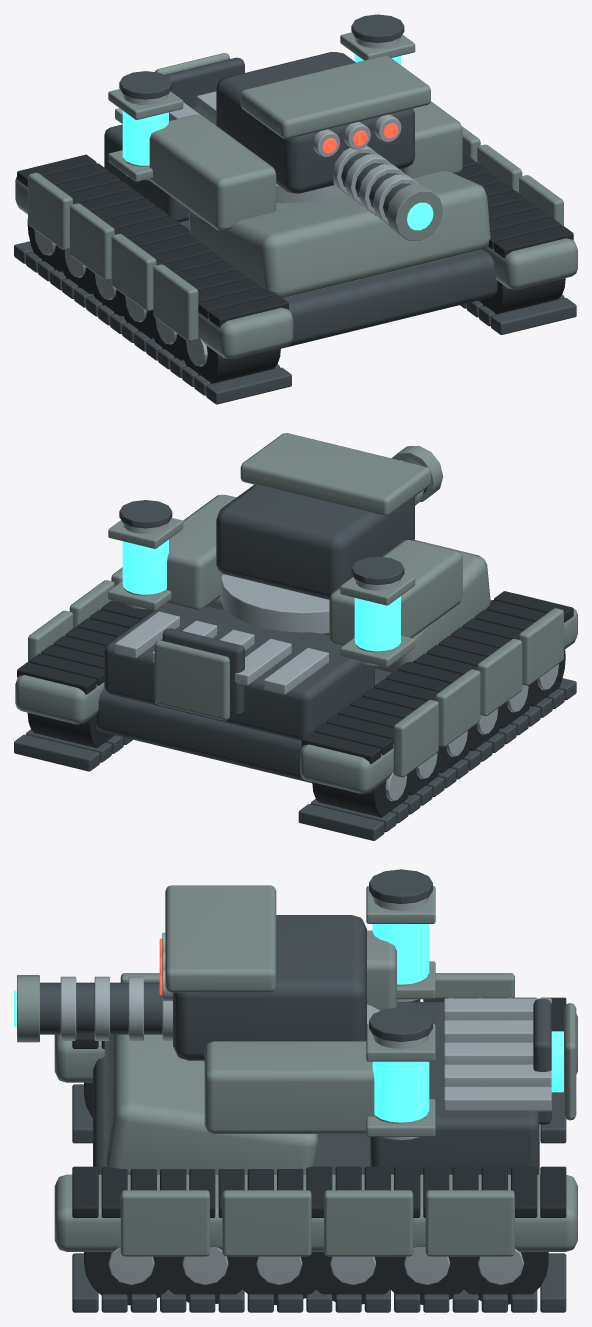
The model's file is HF_MANTIS6.fbx.
3 renders of one model, top to bottom at view 1: azimuth 30°, elevation 25°; view 2: azimuth 150°, elevation 25°; view 3: azimuth 270°, elevation 25°, orthographic. The views are drawn at different scales.
Visible parts, largest first — view 1: Armored glacis, Lower frame, Turret shoulder, Brow armor, Turret, Bogie guard -1, Bogie guard 1, Turret shoulder.001, ArmorL0, ArmorL1, ArmorL2, ArmorL3 (+47 smaller); view 2: Turret, Aft engine deck, Brow armor, Lower frame, Turret shoulder, CoreHatch, Turret shoulder.001, Turret bearing, Bogie guard -1, Armored glacis, Bogie guard 1, ArmorL3 (+50 smaller); view 3: Turret, Armored glacis, Turret shoulder.001, Brow armor, Aft engine deck, Bogie guard 1, ArmorR1, ArmorR3, ArmorR2, ArmorR0, Arc barrel, Coolant glass.001 (+57 smaller).
Part boxes in pixels (bbox=[...]): Armored glacis: bbox=[188, 171, 490, 298]; Lower frame: bbox=[179, 220, 497, 348]; Turret shoulder: bbox=[149, 114, 276, 230]; Brow armor: bbox=[240, 55, 430, 138]; Turret: bbox=[216, 52, 414, 193]; Bogie guard -1: bbox=[15, 176, 293, 358]; Bogie guard 1: bbox=[483, 238, 577, 289]; Turret shoulder.001: bbox=[399, 101, 462, 178]; ArmorL0: bbox=[153, 264, 198, 341]; ArmorL1: bbox=[111, 234, 156, 311]; ArmorL2: bbox=[69, 203, 114, 280]; ArmorL3: bbox=[28, 172, 72, 250]; Turret: bbox=[216, 484, 414, 599]; Aft engine deck: bbox=[104, 602, 374, 740]; Brow armor: bbox=[240, 433, 430, 516]; Lower frame: bbox=[95, 668, 391, 782]; Turret shoulder: bbox=[329, 540, 462, 645]; CoreHatch: bbox=[154, 640, 229, 720]; Turret shoulder.001: bbox=[166, 494, 236, 609]; Turret bearing: bbox=[220, 574, 329, 633]; Bogie guard -1: bbox=[300, 594, 577, 793]; Armored glacis: bbox=[208, 540, 490, 672]; Bogie guard 1: bbox=[15, 675, 104, 724]; ArmorL3: bbox=[393, 700, 438, 777]; Turret: bbox=[173, 915, 366, 1060]; Armored glacis: bbox=[104, 981, 318, 1174]; Turret shoulder.001: bbox=[204, 1041, 375, 1133]; Brow armor: bbox=[165, 885, 276, 992]; Aft engine deck: bbox=[370, 1002, 539, 1174]; Bogie guard 1: bbox=[54, 1174, 577, 1251]; ArmorR1: bbox=[222, 1190, 311, 1256]; ArmorR3: bbox=[425, 1190, 514, 1256]; ArmorR2: bbox=[324, 1190, 413, 1256]; ArmorR0: bbox=[120, 1190, 209, 1256]; Arc barrel: bbox=[40, 982, 162, 1034]; Coolant glass.001: bbox=[372, 1061, 429, 1122].
Bounding box in the file's own units: 344 × 200 × 366.
